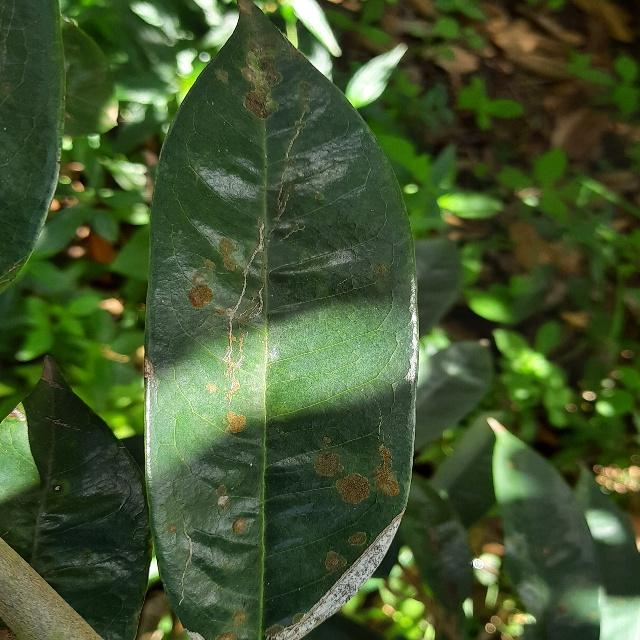Algal Leaf Spot: (133, 0, 425, 640)
